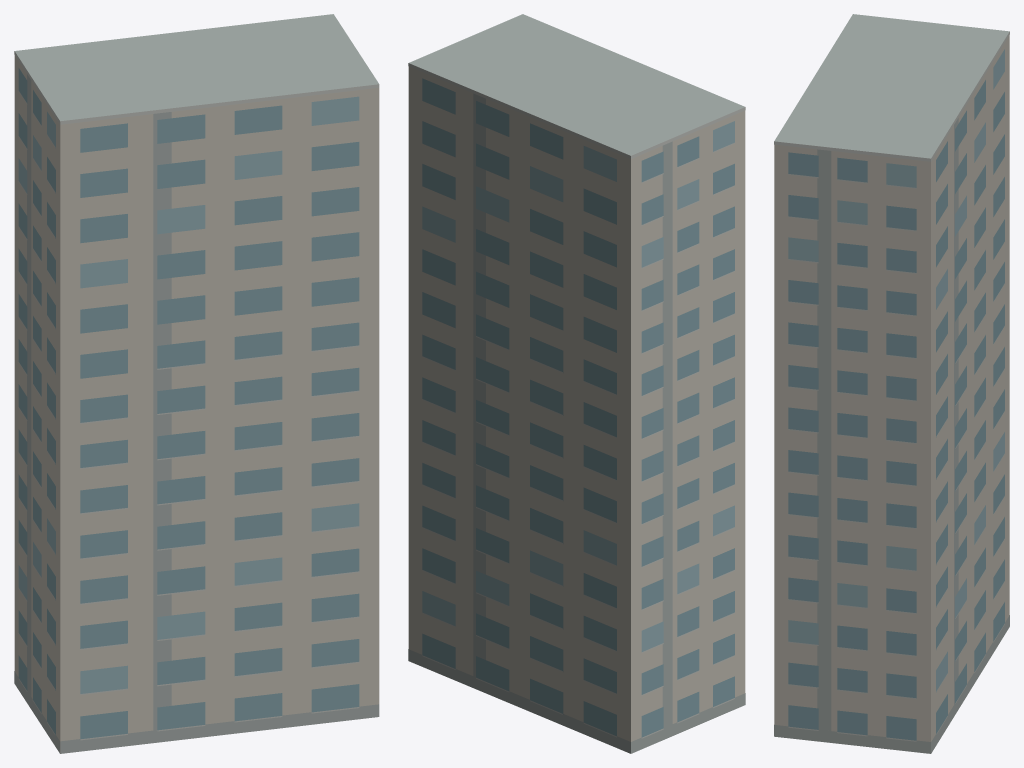
Rendered from residential-684de5cc-582f-4732-a0d7-17c06a93001a.glb.
3 renders of one model, left to right at view 1: azimuth 30°, elevation 25°; view 2: azimuth 150°, elevation 25°; view 3: azimuth 270°, elevation 25°, orthographic. The views are drawn at different scales.
Visible parts, largest first — view 1: residential-684de5cc-582f-4732-a0d7-17c06a93001a.tmp; view 2: residential-684de5cc-582f-4732-a0d7-17c06a93001a.tmp; view 3: residential-684de5cc-582f-4732-a0d7-17c06a93001a.tmp.
Part boxes in pixels (x1,y1,x2,y2): residential-684de5cc-582f-4732-a0d7-17c06a93001a.tmp: (14, 14, 379, 753); residential-684de5cc-582f-4732-a0d7-17c06a93001a.tmp: (408, 14, 745, 753); residential-684de5cc-582f-4732-a0d7-17c06a93001a.tmp: (774, 14, 1009, 753).
Bounding box in the file's own units: 22.93 × 44 × 15.8.
